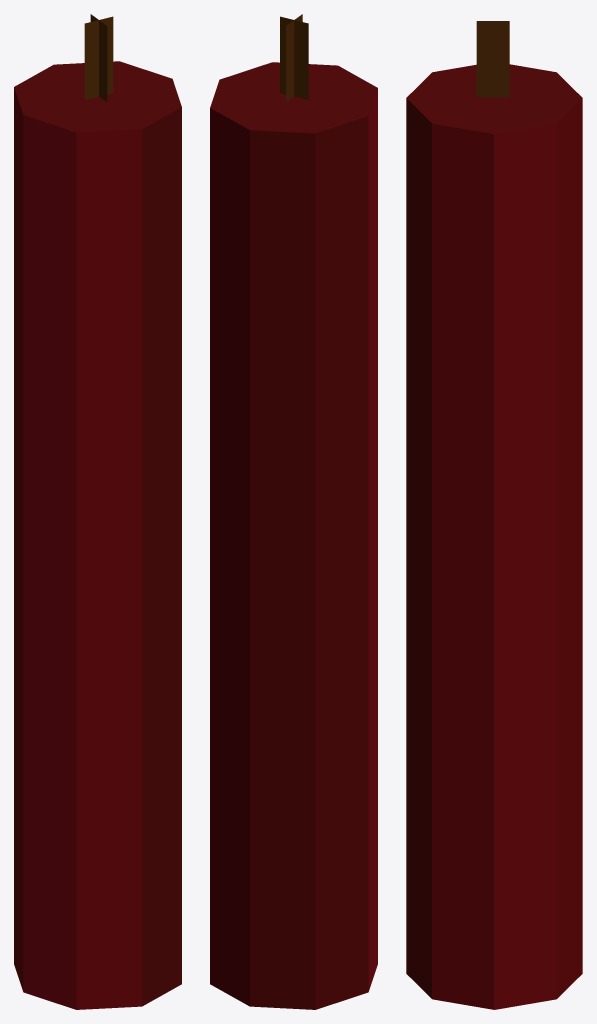
File: candle_336x07.gltf
The picture shows the model from 3 angles, left to right: view 1: azimuth 30°, elevation 25°; view 2: azimuth 150°, elevation 25°; view 3: azimuth 270°, elevation 25°; orthographic projection.
Visible parts, largest first — view 1: candle_336x07; view 2: candle_336x07; view 3: candle_336x07.
Boxes of the visible parts, x1,y1,x2,y2 form: candle_336x07: [14, 14, 181, 1009]; candle_336x07: [210, 14, 377, 1009]; candle_336x07: [406, 21, 582, 1009].
Size of the model in its own units: 0.1466 by 0.8965 by 0.1504.
1 material, 1 textured.
